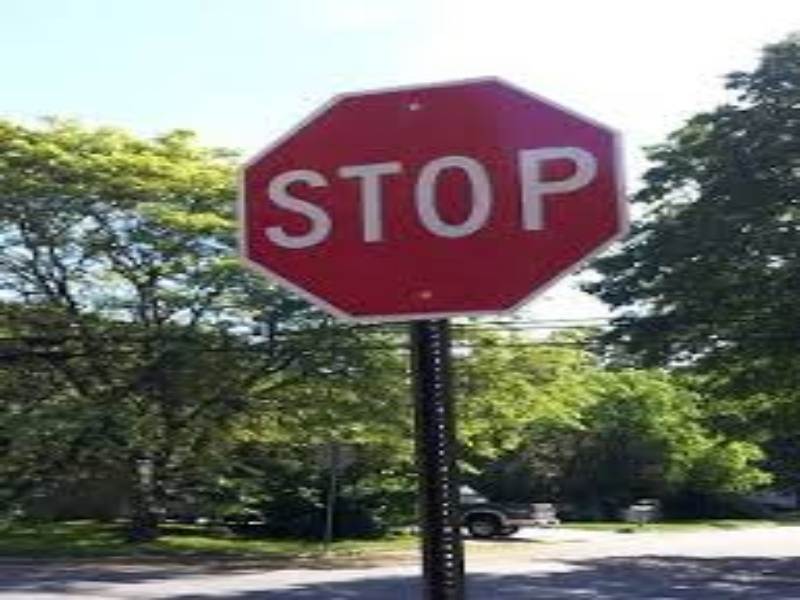Stop_Sign: (240, 74, 621, 322)
